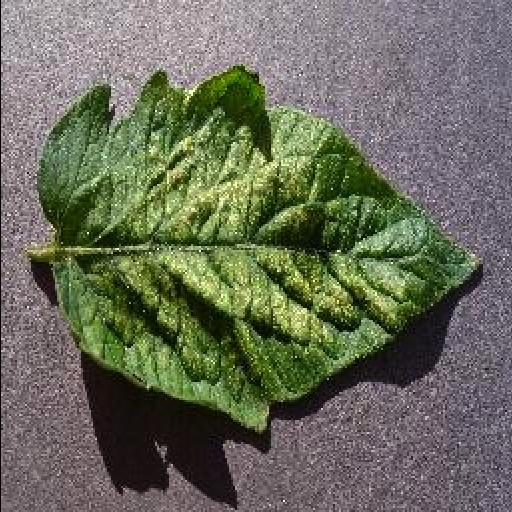disease_tomato: (34, 68, 480, 434)
